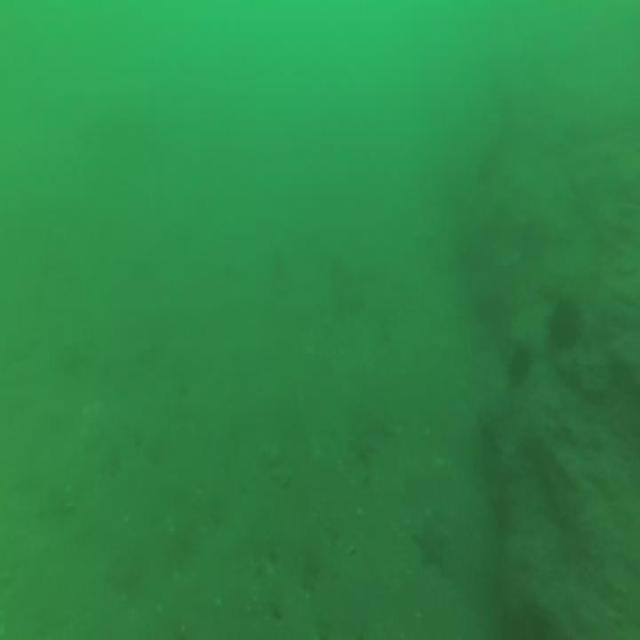echinus: (548, 294, 580, 357), (508, 341, 530, 392)
starfish: (410, 514, 457, 578)
